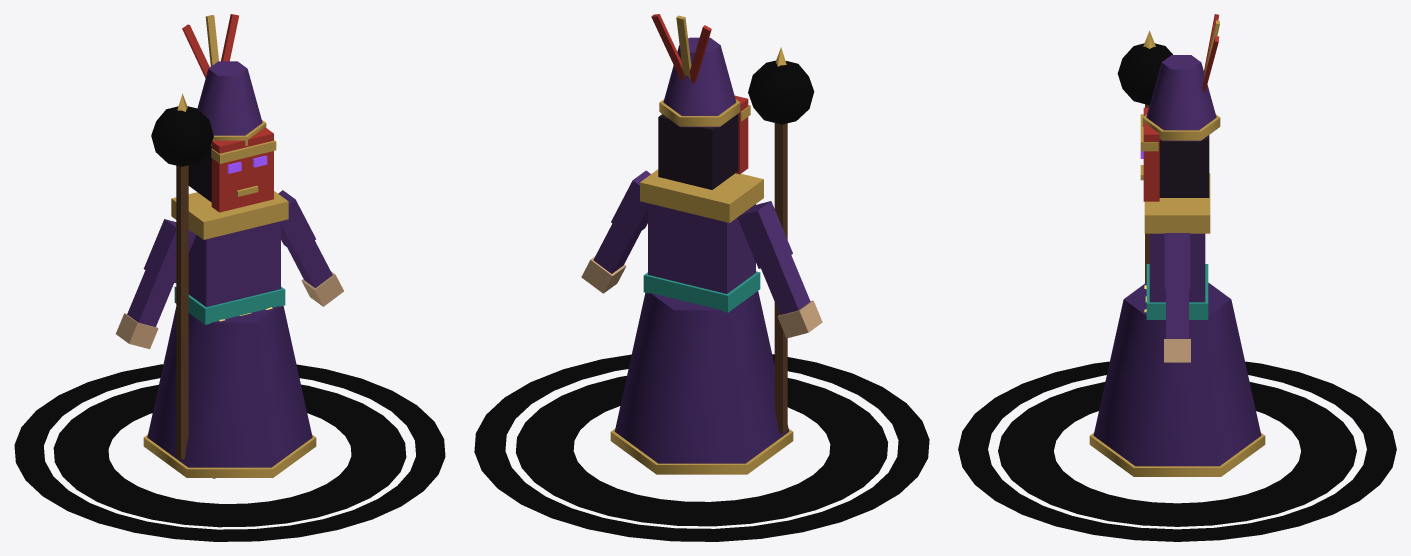
The model's file is BO_SK_Enemy_Shaman_v001.glb.
3 views of the same model, side by side, from view 1: azimuth 30°, elevation 25°; view 2: azimuth 150°, elevation 25°; view 3: azimuth 270°, elevation 25° (orthographic). The views are drawn at different scales.
Visible parts, largest first — view 1: body_034, attachment_036, attachment_037, body_006, attachment_029, body_013, body_008, body_025, attachment_033, body_035, body_024, body_021 (+7 smaller); view 2: body_034, attachment_036, attachment_037, body_006, body_007, body_025, body_013, attachment_033, attachment_029, body_021, body_035, body_024 (+10 smaller); view 3: body_034, attachment_036, attachment_037, body_013, body_007, body_025, body_006, attachment_033, body_035, body_018, body_008, body_019 (+3 smaller).
Part boxes in pixels (x1,y1,x2,y2): body_034: (147,306,312,467); attachment_036: (53,384,406,527); attachment_037: (14,364,445,541); body_006: (188,221,280,306); attachment_029: (176,165,188,459); body_013: (197,61,262,146); body_008: (211,128,273,212); body_025: (171,191,288,239); attachment_033: (151,106,213,166); body_035: (143,434,316,477); body_024: (174,286,285,324); body_021: (143,219,196,283); body_034: (614,291,789,463); attachment_036: (515,376,888,526); attachment_037: (474,354,929,541); body_006: (648,203,755,293); body_007: (658,114,738,189); body_025: (640,169,763,222); body_013: (661,37,736,127); attachment_033: (748,60,814,124); attachment_029: (774,123,787,433); body_021: (737,201,792,268); body_035: (610,429,793,474); body_024: (643,271,760,312); body_034: (1093,282,1261,466); attachment_036: (998,382,1356,526); attachment_037: (958,361,1396,541); body_013: (1146,55,1217,141); body_007: (1159,135,1209,197); body_025: (1144,173,1210,233); body_006: (1149,233,1205,302); attachment_033: (1117,43,1172,105); body_035: (1089,433,1265,476); body_018: (1164,233,1190,289); body_008: (1143,107,1159,201); body_019: (1166,289,1188,338).
Bounding box in the file's own units: 2.2 × 2.41 × 2.2.
